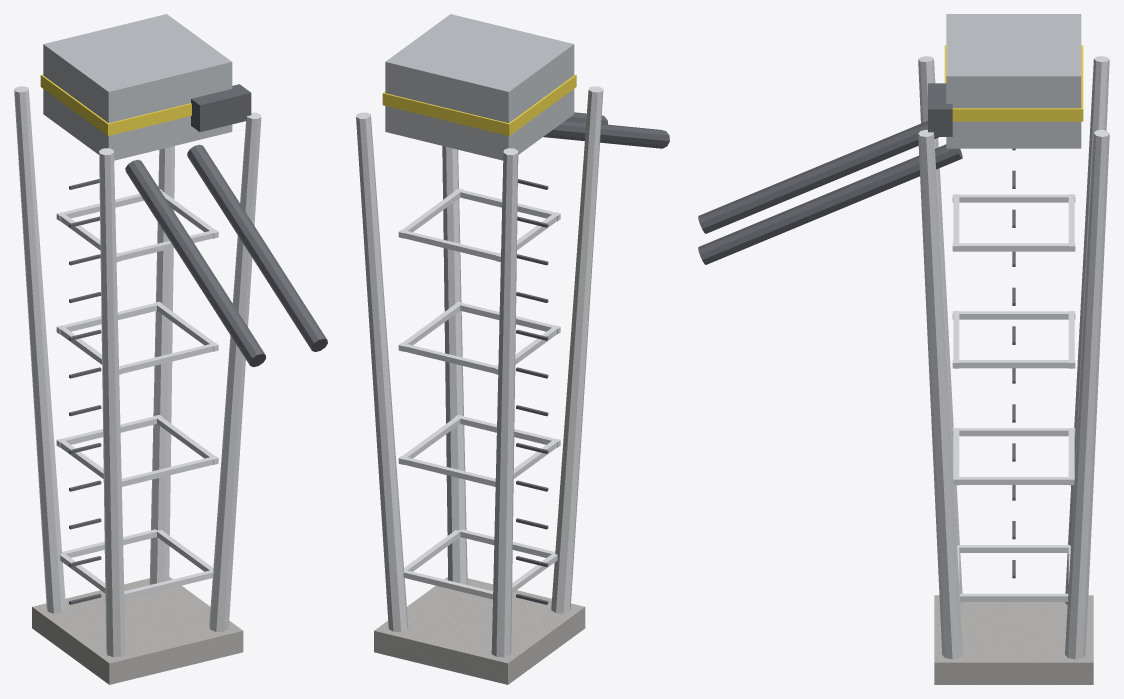
The model's file is ferry-terminal-and-harbour-crossing-ferry-terminal-and-3e1b70c5__35634.glb.
3 renders of one model, left to right at view 1: azimuth 30°, elevation 25°; view 2: azimuth 150°, elevation 25°; view 3: azimuth 270°, elevation 25°, orthographic. The views are drawn at different scales.
Parts seen in each view (by area): view 1: ferry-terminal-and-harbour-crossing-linkspan-hydraulic-tower (×5); view 2: ferry-terminal-and-harbour-crossing-linkspan-hydraulic-tower (×5); view 3: ferry-terminal-and-harbour-crossing-linkspan-hydraulic-tower (×5).
Part boxes in pixels (left/top/right/bottom): ferry-terminal-and-harbour-crossing-linkspan-hydraulic-tower (×5): left=14, top=14, right=327, bottom=684; ferry-terminal-and-harbour-crossing-linkspan-hydraulic-tower (×5): left=356, top=14, right=669, bottom=684; ferry-terminal-and-harbour-crossing-linkspan-hydraulic-tower (×5): left=698, top=14, right=1109, bottom=684.
Bounding box in the file's own units: 3.12 × 10.9 × 6.71.
5 materials, 1 textured.
